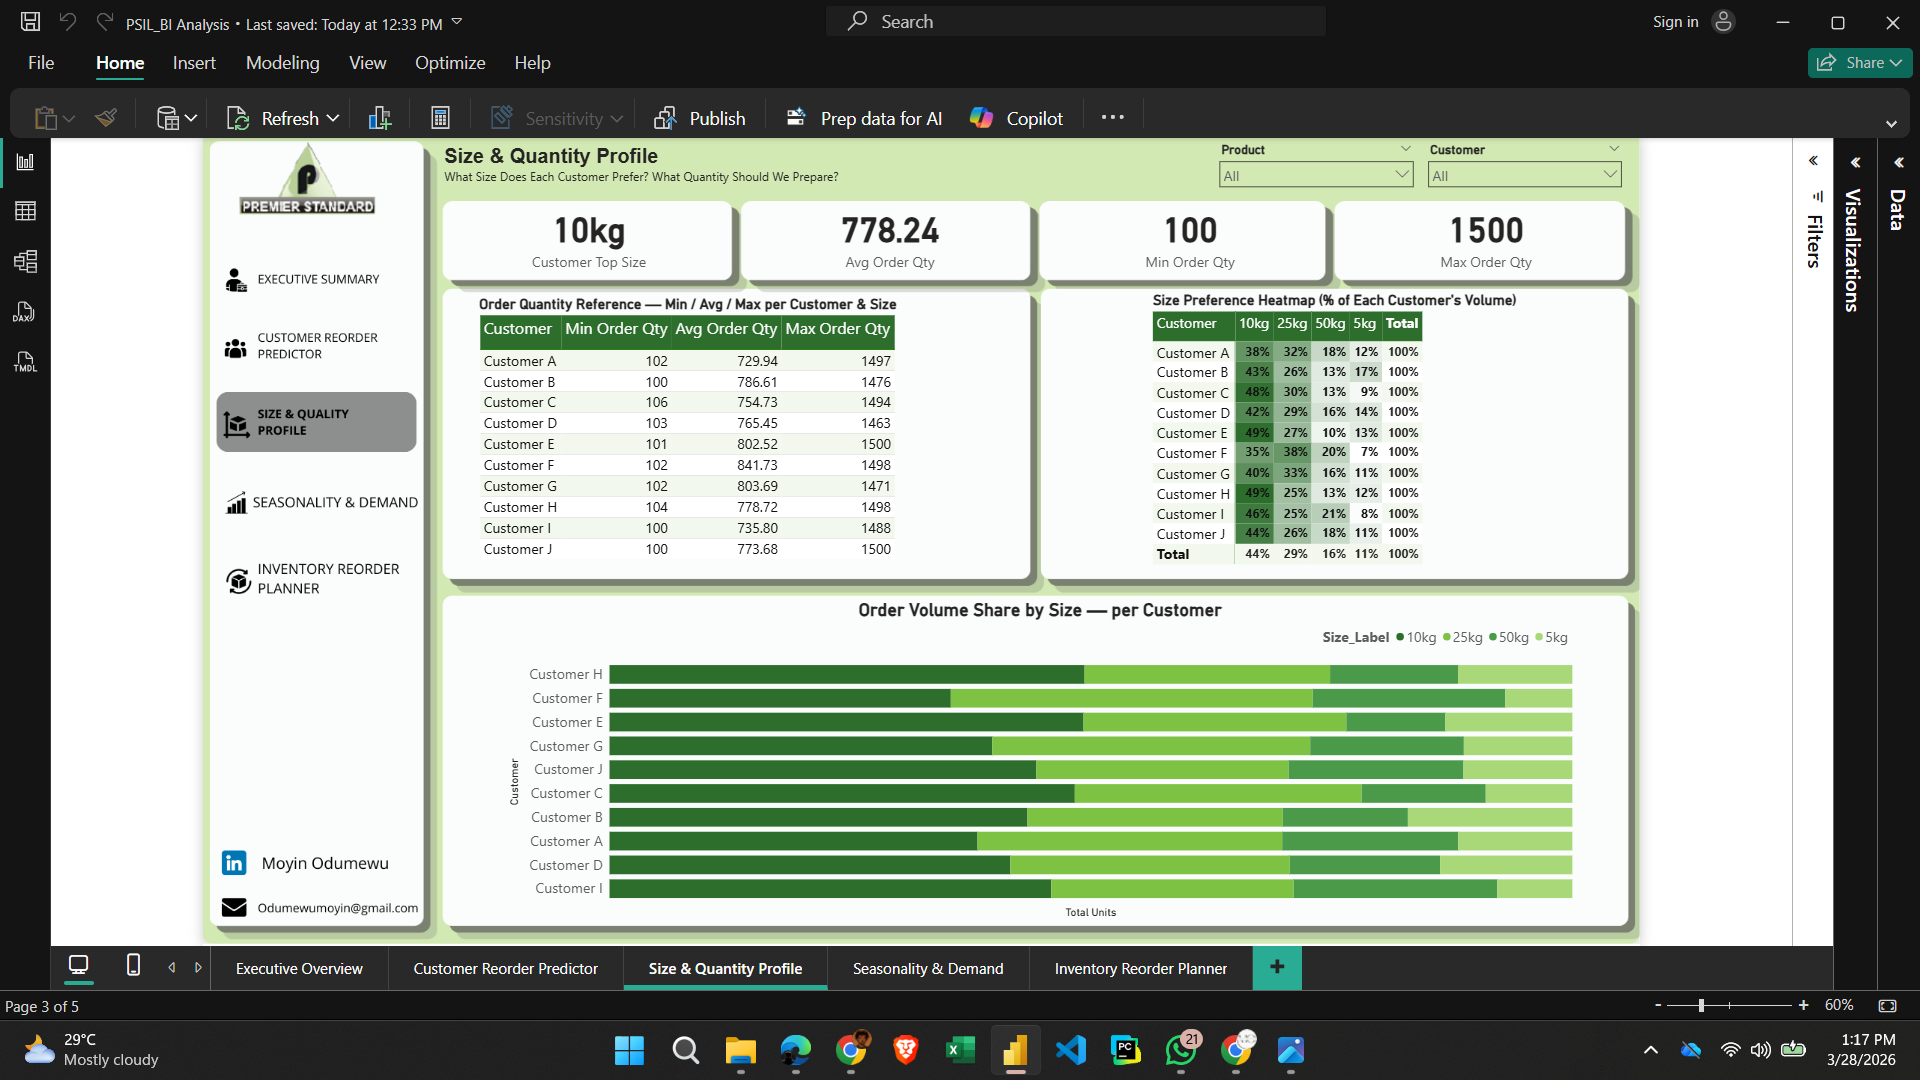

This screenshot's page, from the dashboard's own definition file:
{"tool":"powerbi","page":{"name":"Size & Quantity Profile","canvas":[1920,1080],"ordinal":2},"visuals":[{"type":"slicer","fields":{"Values":["FactOrders.Customer"]},"box":[1625.6,0,279.1,80.2],"z":0},{"type":"slicer","fields":{"Values":["FactOrders.Product"]},"box":[1347.2,0,279.8,75.5],"z":1000},{"type":"card","fields":{"Values":["Table.Customer Top Size"]},"box":[364.4,81,303.7,101.2],"z":2000},{"type":"card","fields":{"Values":["Table.Avg Order Qty"]},"box":[769.3,81,296.3,101.2],"z":3000},{"type":"card","fields":{"Values":["Table.Min Order Qty"]},"box":[1170.6,81,296.3,101.2],"z":4000},{"type":"card","fields":{"Values":["Table.Max Order Qty"]},"box":[1569.9,81,289,101.2],"z":5000},{"type":"hundredPercentStackedBarChart","title":"Order Volume Share by Size — per Customer","fields":{"Category":["FactOrders.Customer"],"Y":["Table.Total Units"],"Series":["FactOrders.Size_Label"]},"box":[402.9,615.7,1432,430.8],"z":6000},{"type":"pivotTable","title":"Size Preference Heatmap (% of Each Customer''s Volume)","fields":{"Rows":["FactOrders.Customer"],"Columns":["FactOrders.Size_Label"],"Values":["Table.Size Share %"]},"box":[1264.4,206.1,570.6,379.1],"z":7000},{"type":"tableEx","title":"Order Quantity Reference — Min / Avg / Max per Customer & Size","fields":{"Values":["FactOrders.Customer","Table.Min Order Qty","Table.Avg Order Qty","Table.Max Order Qty"]},"box":[364.4,209.8,741.7,369.9],"z":8000},{"type":"textbox","box":[316.6,5.5,550.3,69.9],"z":9000}]}

Visuals, with their boxes on the page's 1920x1080 design canvas (x1, y1, x2, y2). These are canvas units, not pixel positions in the 1920x1080 screenshot, which may show the page scaled, cropped or inside an application window:
slicer - FactOrders.Customer: (1626, 0, 1905, 80)
slicer - FactOrders.Product: (1347, 0, 1627, 76)
card - Table.Customer Top Size: (364, 81, 668, 182)
card - Table.Avg Order Qty: (769, 81, 1066, 182)
card - Table.Min Order Qty: (1171, 81, 1467, 182)
card - Table.Max Order Qty: (1570, 81, 1859, 182)
"Order Volume Share by Size — per Customer" hundredPercentStackedBarChart: (403, 616, 1835, 1046)
"Size Preference Heatmap (% of Each Customer''s Volume)" pivotTable: (1264, 206, 1835, 585)
"Order Quantity Reference — Min / Avg / Max per Customer & Size" tableEx: (364, 210, 1106, 580)
textbox: (317, 6, 867, 75)
